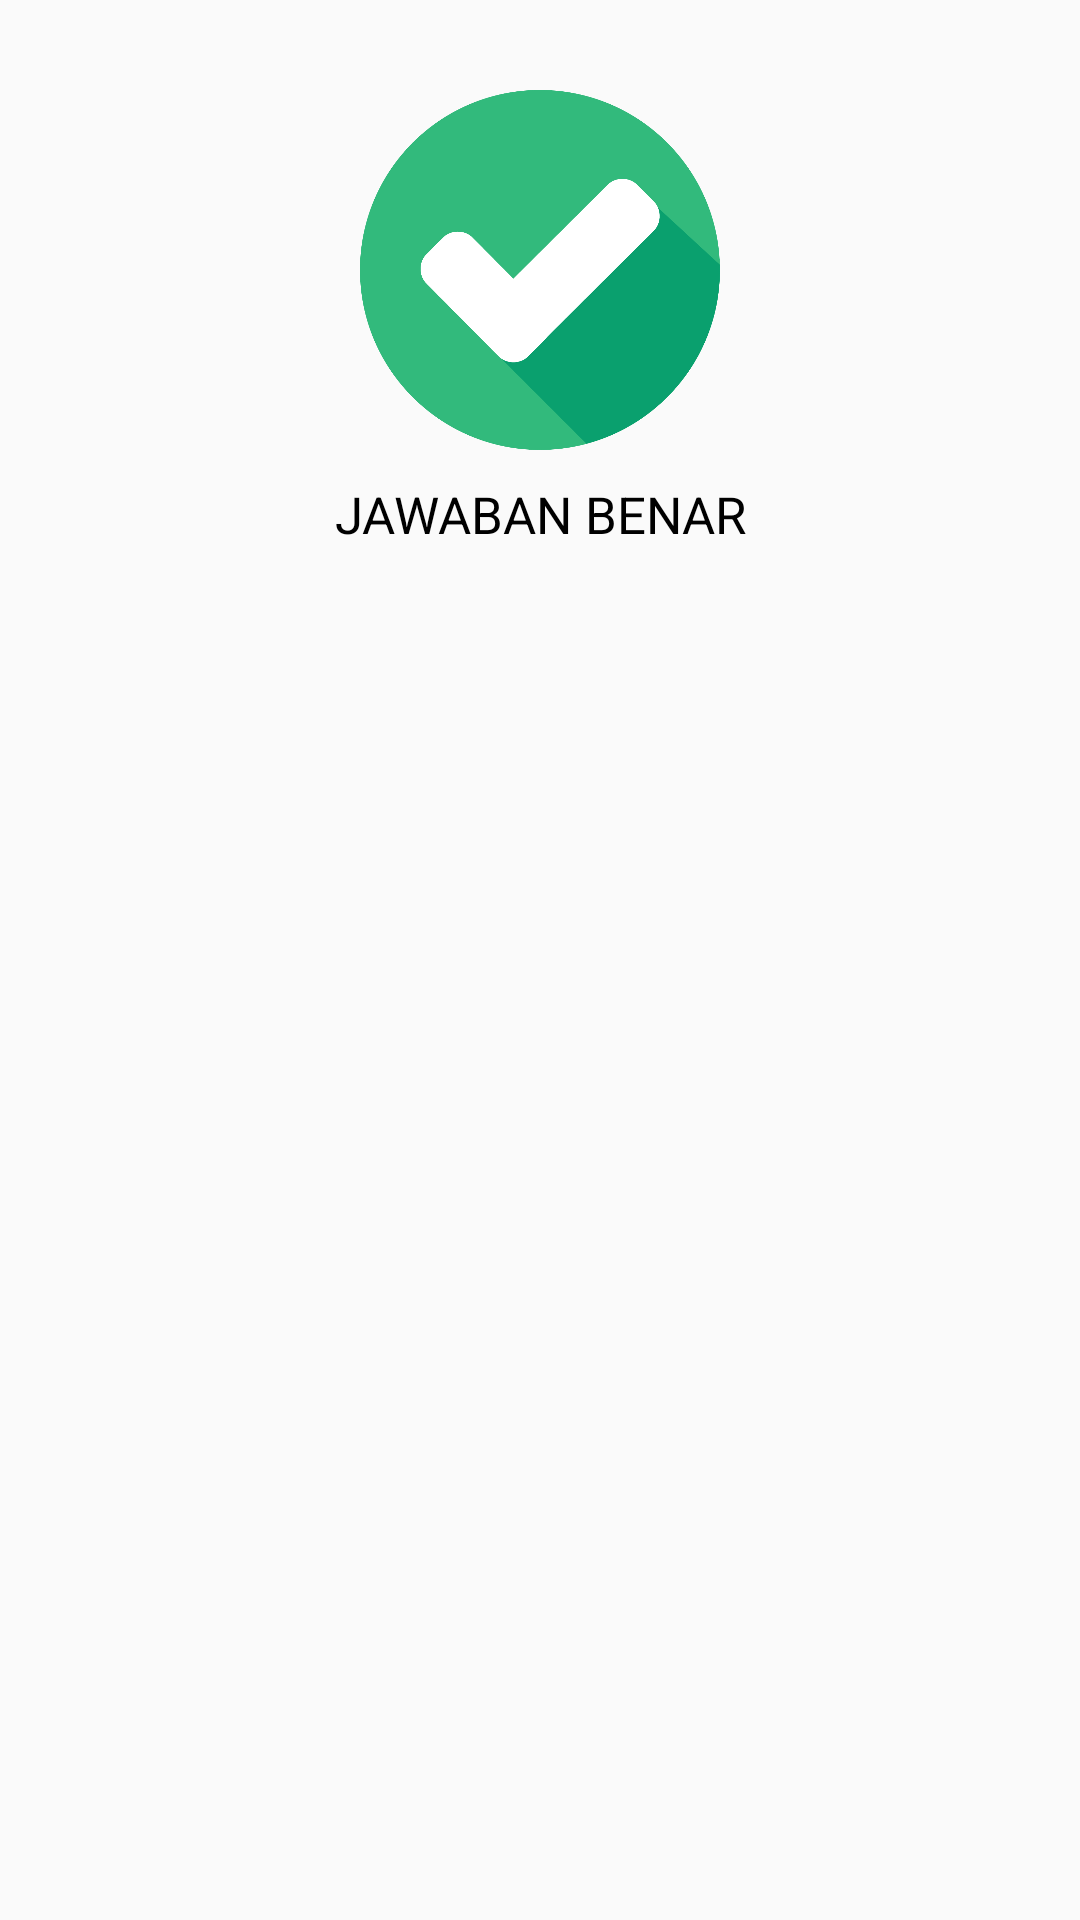

Point at icon controls on the screen. Image size 1080×1920, points as (x,y).
checked: (540,270)
